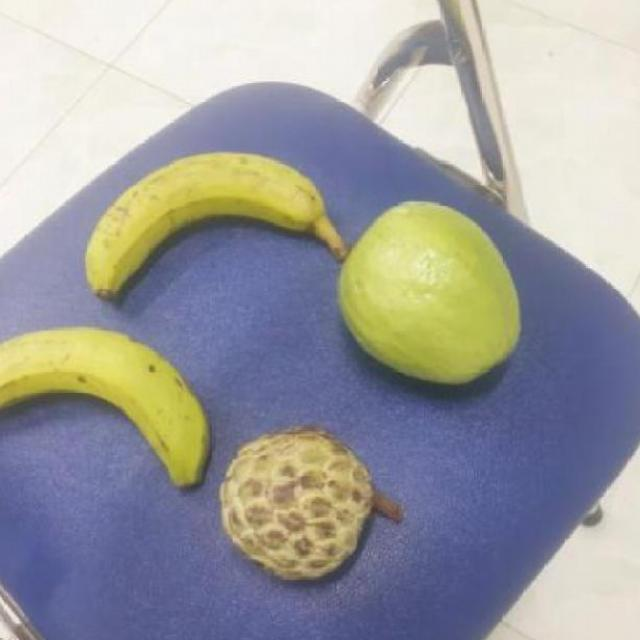banana: (86, 152, 356, 304), (0, 328, 216, 481)
guava: (337, 198, 528, 386)
sugar apple: (224, 425, 386, 588)
